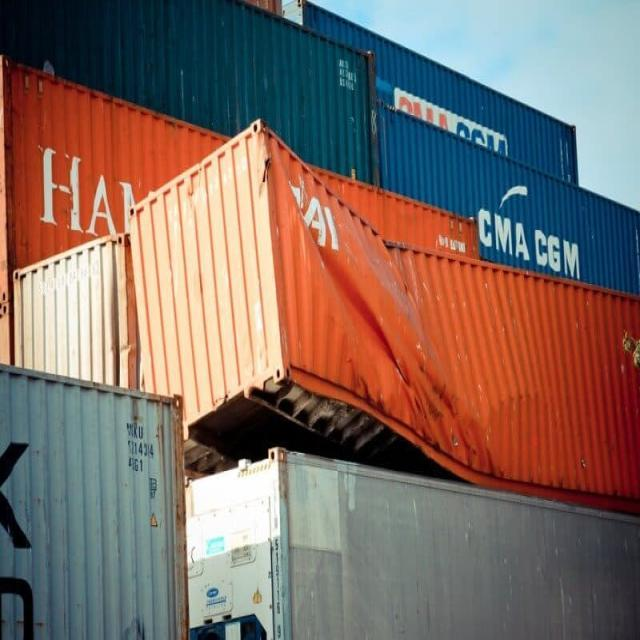hole: (126, 110, 486, 460)
rust: (156, 401, 193, 545)
